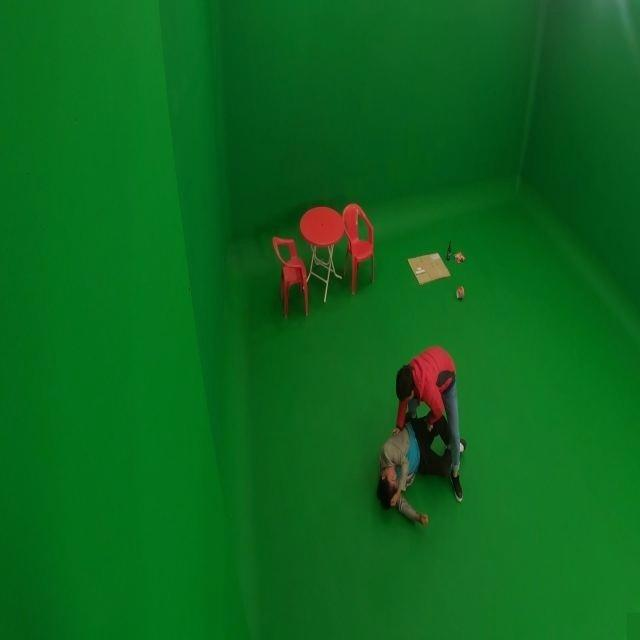fight: (372, 345, 467, 525)
